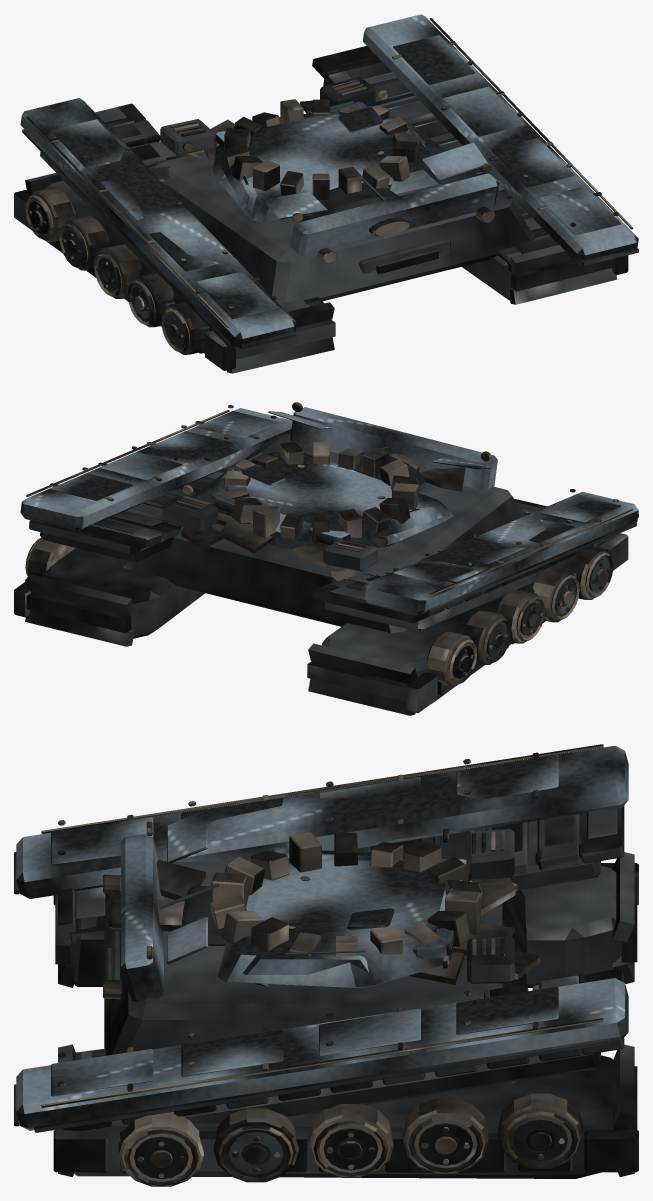
The model's file is tank-1.glb.
The picture shows the model from 3 angles, top to bottom: view 1: azimuth 30°, elevation 25°; view 2: azimuth 150°, elevation 25°; view 3: azimuth 270°, elevation 25°; orthographic projection. The views are drawn at different scales.
Visible parts, largest first — view 1: wreck.tank.team, wreck.tank.structure, wreck.tank.neutral; view 2: wreck.tank.structure, wreck.tank.team, wreck.tank.neutral; view 3: wreck.tank.team, wreck.tank.structure, wreck.tank.neutral.
Part boxes in pixels (x1,y1,x2,y2): wreck.tank.team: (20,14,638,348); wreck.tank.structure: (14,46,638,373); wreck.tank.neutral: (25,18,633,354); wreck.tank.structure: (14,433,638,715); wreck.tank.team: (20,407,638,614); wreck.tank.neutral: (25,402,633,686); wreck.tank.team: (16,745,628,1130); wreck.tank.structure: (14,805,638,1179); wreck.tank.neutral: (41,744,603,1186).
Bounding box in the file's own units: 2.92 × 0.8142 × 2.64.
3 materials, 3 textured.
